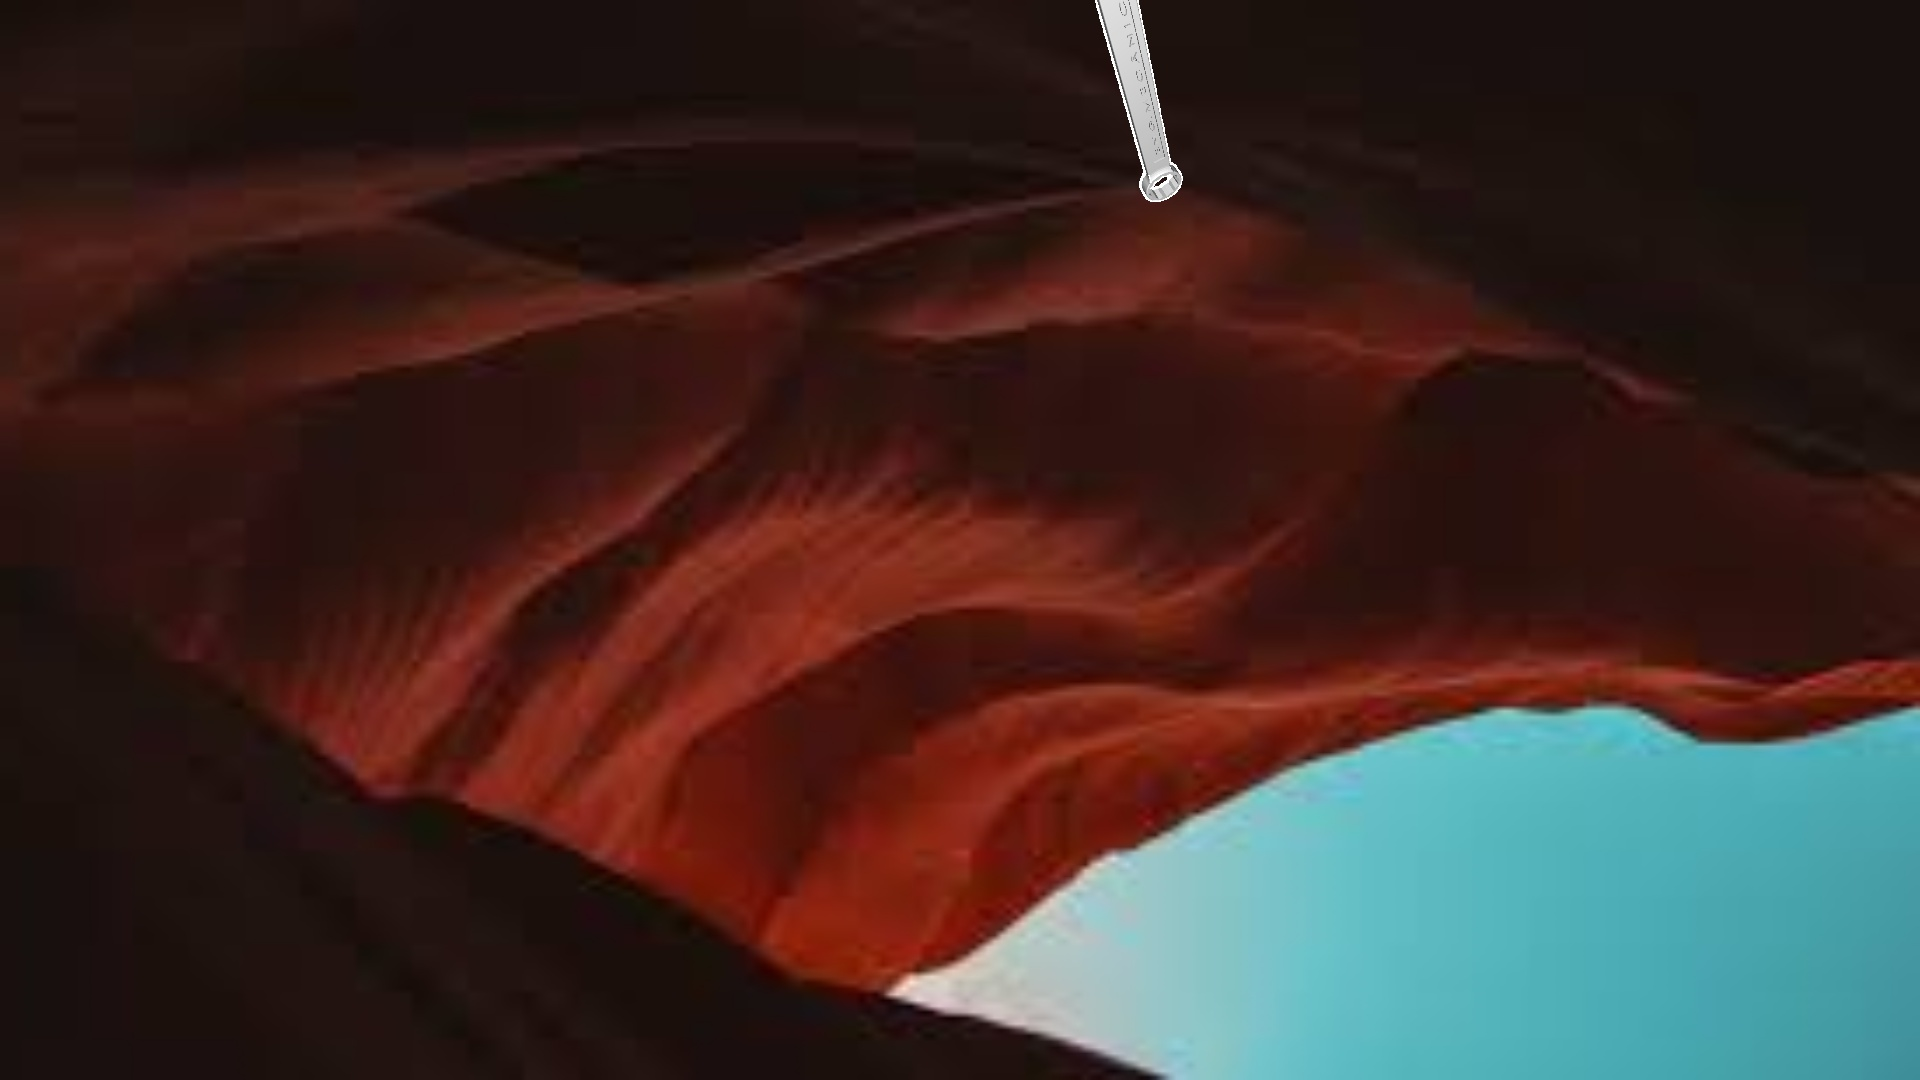Mixed Key: (1095, 0, 1182, 200)
